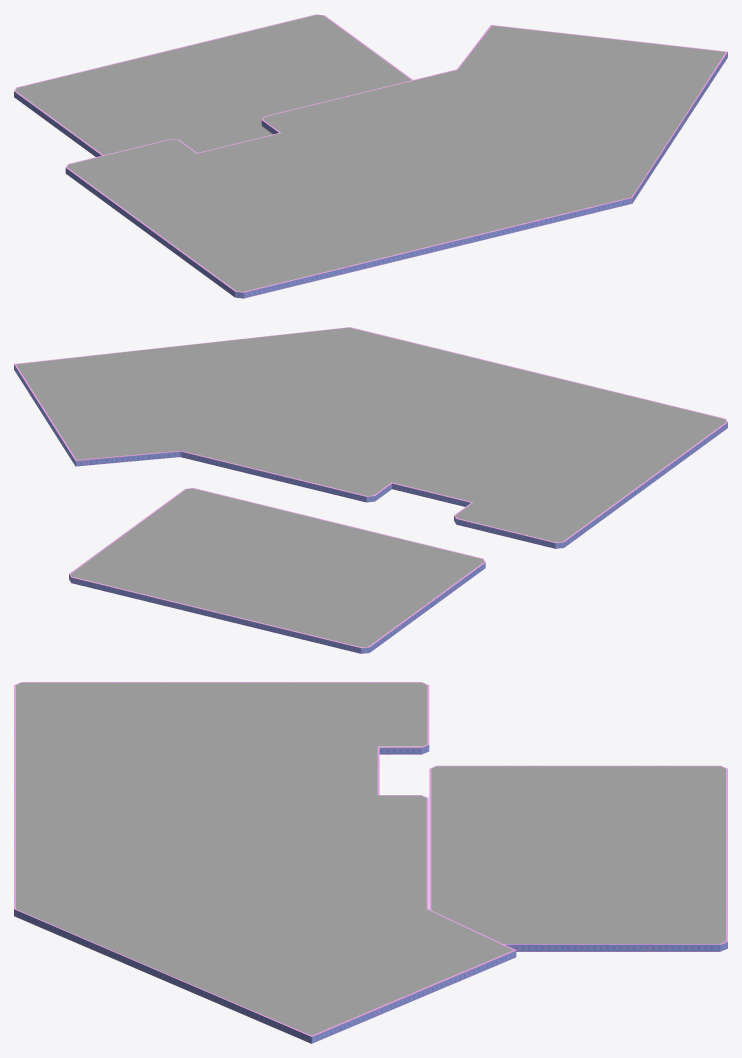
File: ElevatorPlatform_01_SM_Low.fbx
The picture shows the model from 3 angles, top to bottom: view 1: azimuth 30°, elevation 25°; view 2: azimuth 150°, elevation 25°; view 3: azimuth 270°, elevation 25°; orthographic projection. The views are drawn at different scales.
Visible parts, largest first — view 1: GratedFloor1, GratedFloor, FloorSide1, FloorSide; view 2: GratedFloor1, GratedFloor, FloorSide1, FloorSide; view 3: GratedFloor1, GratedFloor, FloorSide1, FloorSide.
Part boxes in pixels (box(x1,y1,x2,y2)): GratedFloor1: box(67, 25, 725, 291); GratedFloor: box(15, 15, 411, 155); FloorSide1: box(65, 25, 727, 298); FloorSide: box(14, 14, 412, 156); GratedFloor1: box(16, 327, 726, 542); GratedFloor: box(70, 488, 484, 647); FloorSide1: box(14, 327, 727, 548); FloorSide: box(69, 488, 485, 653); GratedFloor1: box(16, 682, 513, 1035); GratedFloor: box(431, 766, 725, 943); FloorSide1: box(14, 682, 516, 1043); FloorSide: box(429, 765, 727, 951).
Bounding box in the file's own units: 1881 × 118 × 1599.
Materials: 2 (1 with a texture image).
